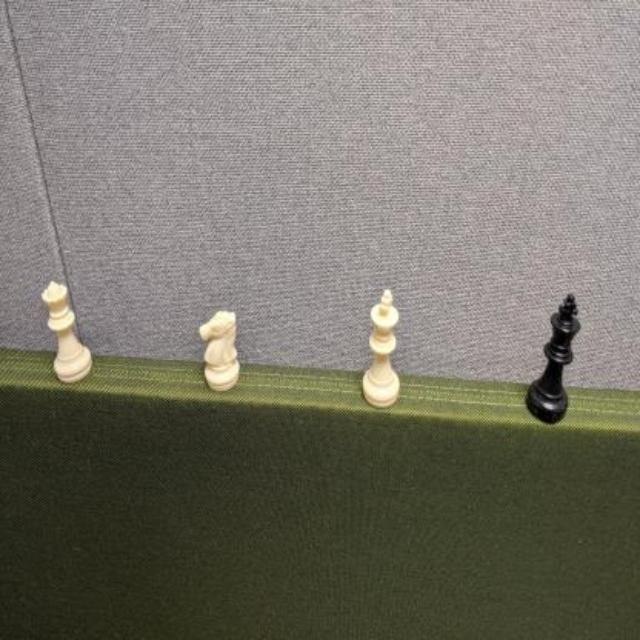black-king: (526, 291, 584, 423)
white-king: (361, 287, 402, 408)
white-knight: (197, 305, 241, 394)
white-queen: (42, 277, 94, 387)
